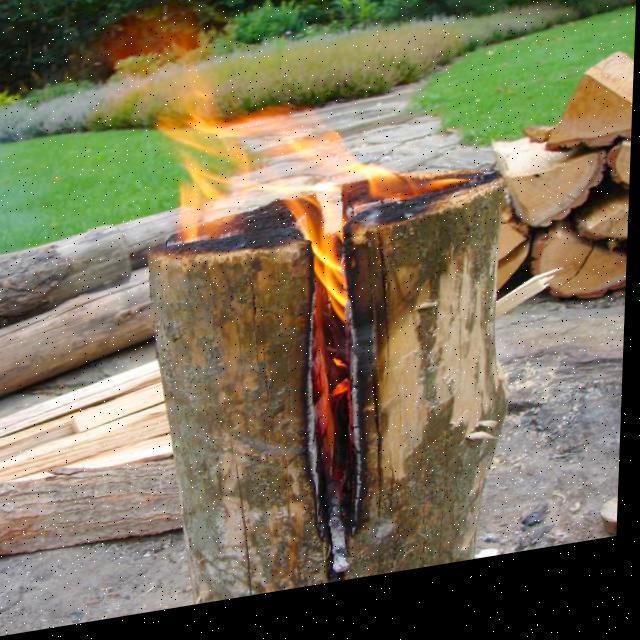Fire: (115, 0, 492, 280)
